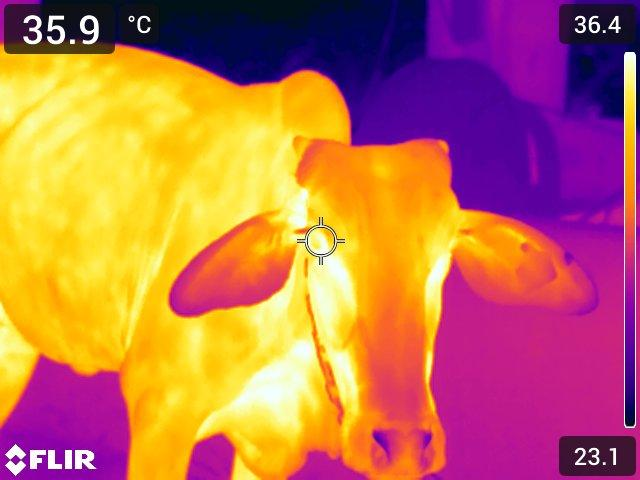ear: (450, 199, 603, 322), (170, 207, 297, 323)
eyes: (295, 217, 340, 270)
hump: (266, 50, 372, 133)
